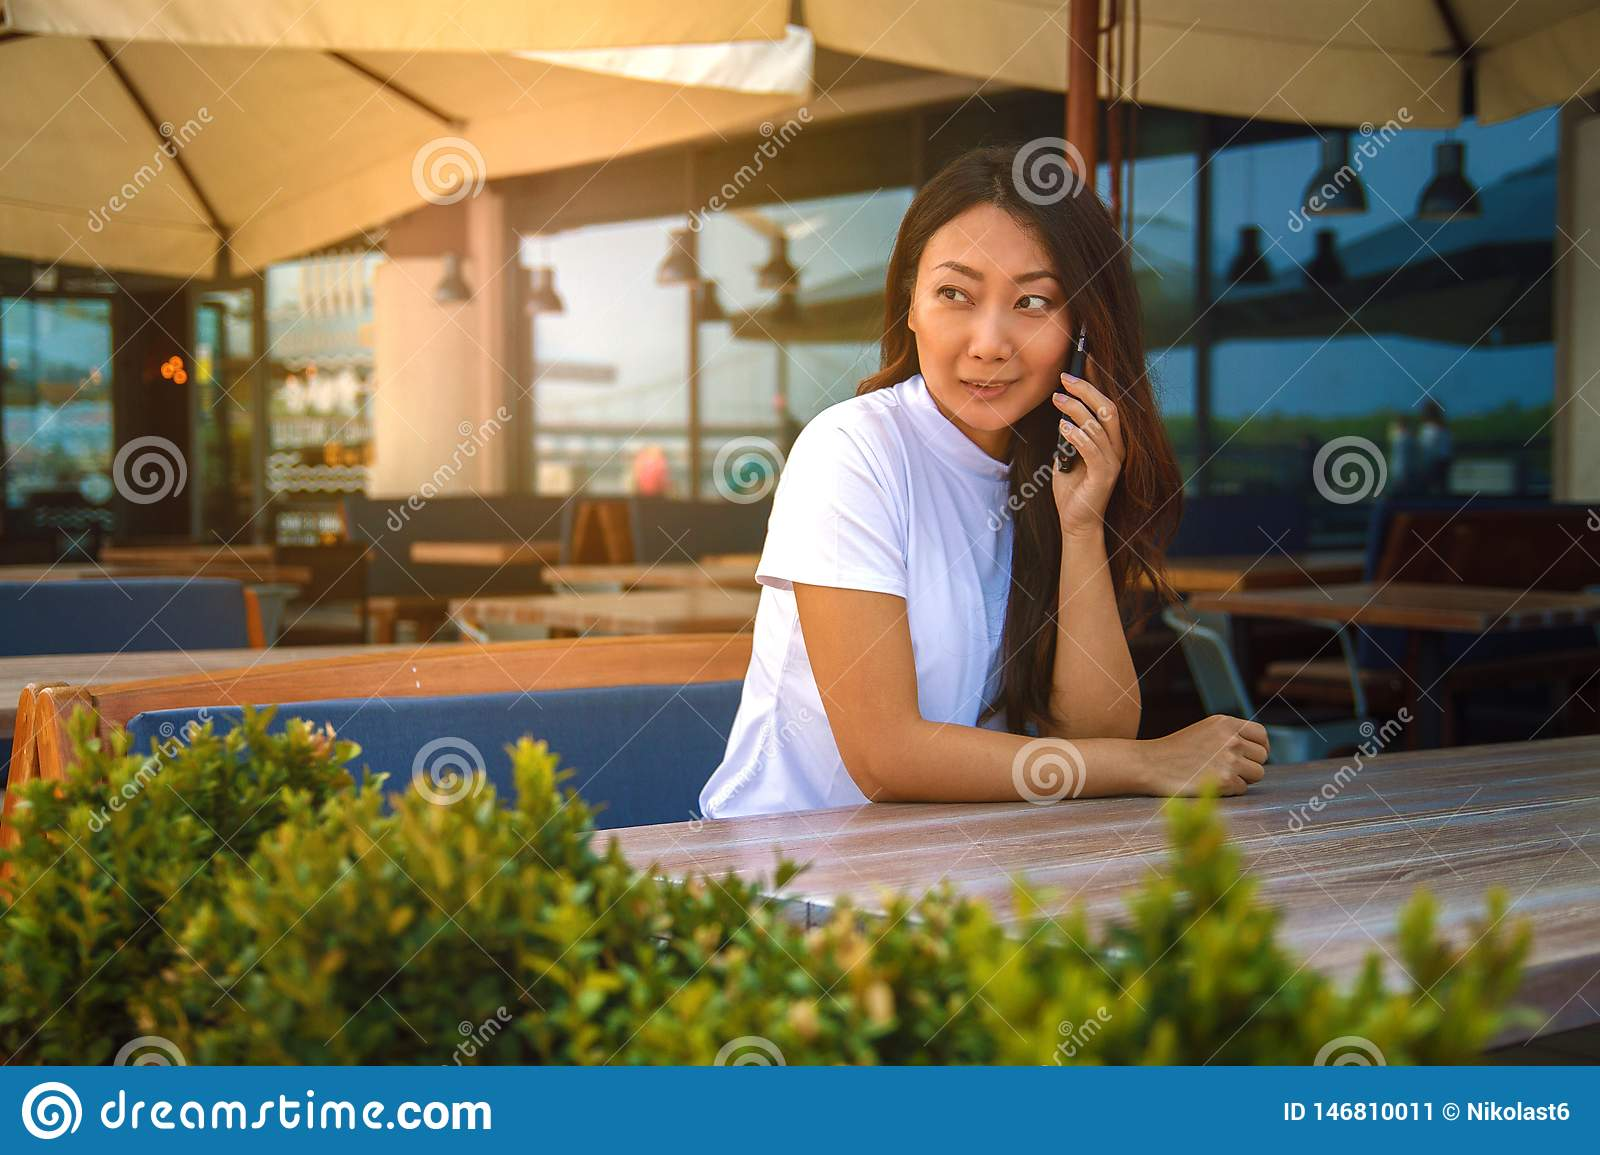phone: (1057, 304, 1098, 477)
talk: (920, 253, 1125, 527)
